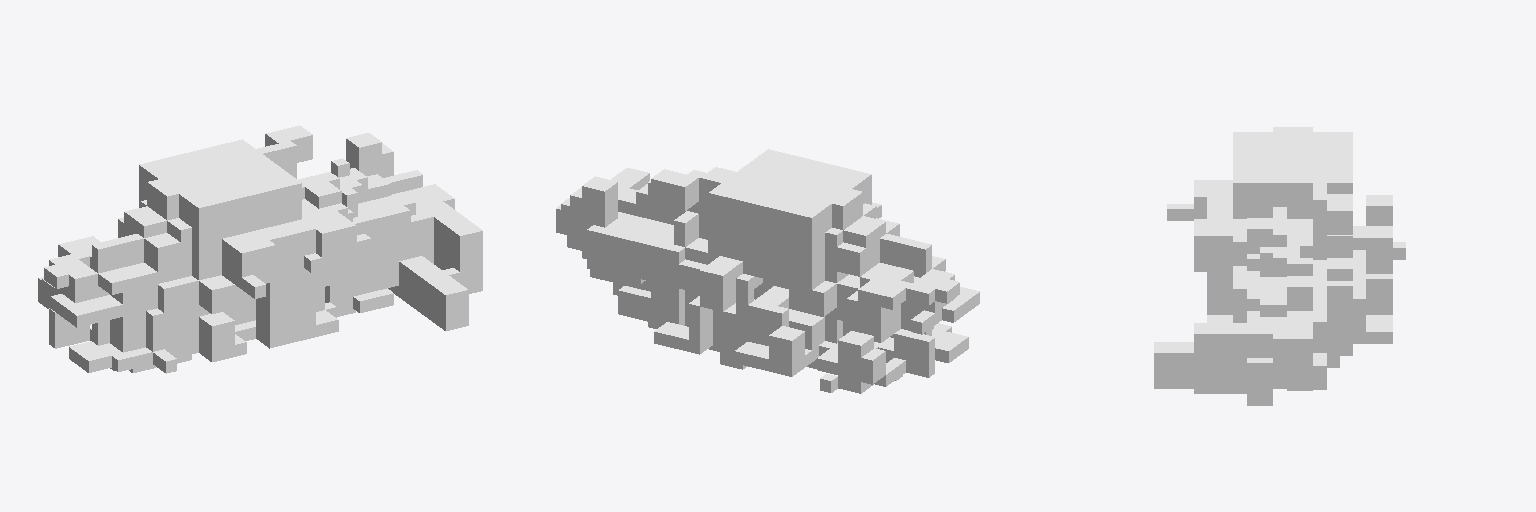
Rendered from Cloud.obj.
The picture shows the model from 3 angles: view 1: azimuth 30°, elevation 25°; view 2: azimuth 150°, elevation 25°; view 3: azimuth 270°, elevation 25°; orthographic projection.
Visible parts, largest first — view 1: object 1; view 2: object 1; view 3: object 1.
Boxes of the visible parts, box(x1,y1,x2,y2) form: object 1: box(38, 125, 482, 373); object 1: box(556, 149, 979, 393); object 1: box(1154, 127, 1405, 405).
Size of the model in its own units: 3.4 by 1.4 by 1.9.